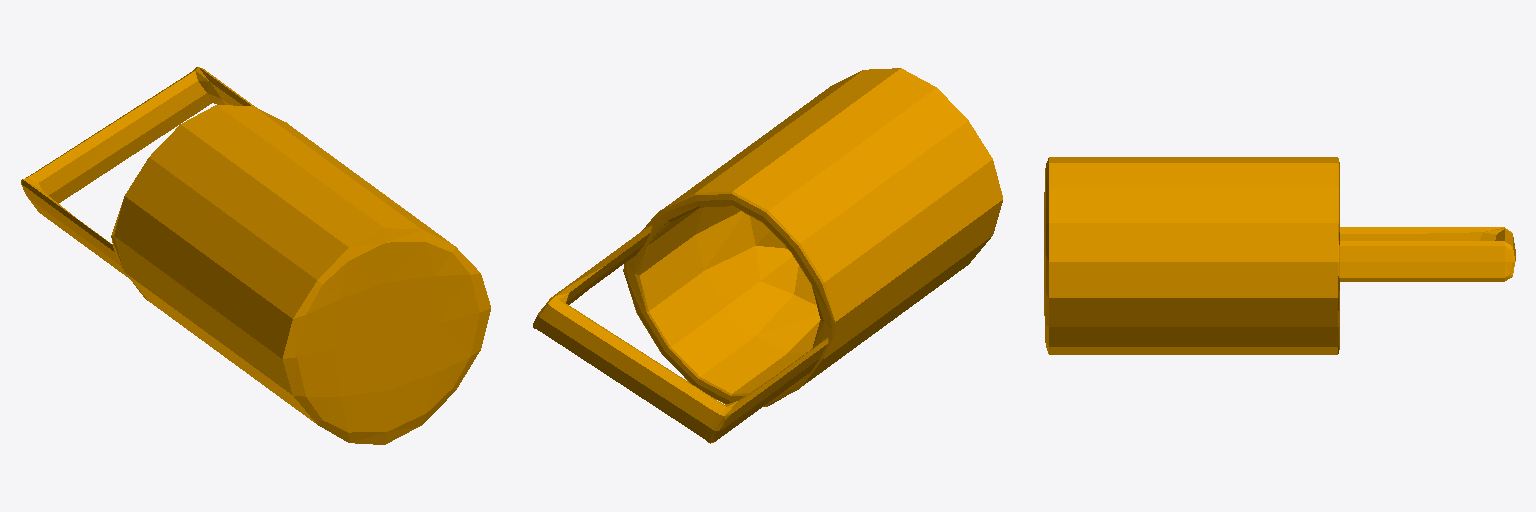
The robot description file, URDF, robot "289":
<?xml version="1.0" ?>
<robot name="289">
  <link name="body">
    <visual>
      <geometry>
        <mesh filename="../shapes/289.obj"/>
      </geometry>
    </visual>
    <collision>
      <geometry>
        <mesh filename="../shapes/289.obj"/>
      </geometry>
    </collision>
  </link>
</robot>

--- Render facts (derived) ---
Views: 3 orthographic renders of the robot side by side, from view 1: azimuth 30°, elevation 25°; view 2: azimuth 150°, elevation 25°; view 3: azimuth 270°, elevation 25°.
Robot: 289 — 1 links, 0 joints (none); root link body; default pose: all joints at 0.
Links seen in each view (by area): view 1: body; view 2: body; view 3: body.
Link boxes in pixels (bbox=[...]): body: bbox=[21, 67, 490, 444]; body: bbox=[533, 68, 1002, 443]; body: bbox=[1044, 157, 1515, 354].
Bounding box of the posed robot: 2.88 × 6.44 × 2.8 m (x, y, z).
1 mesh visuals loaded from 1 distinct referenced files (1 OBJ).